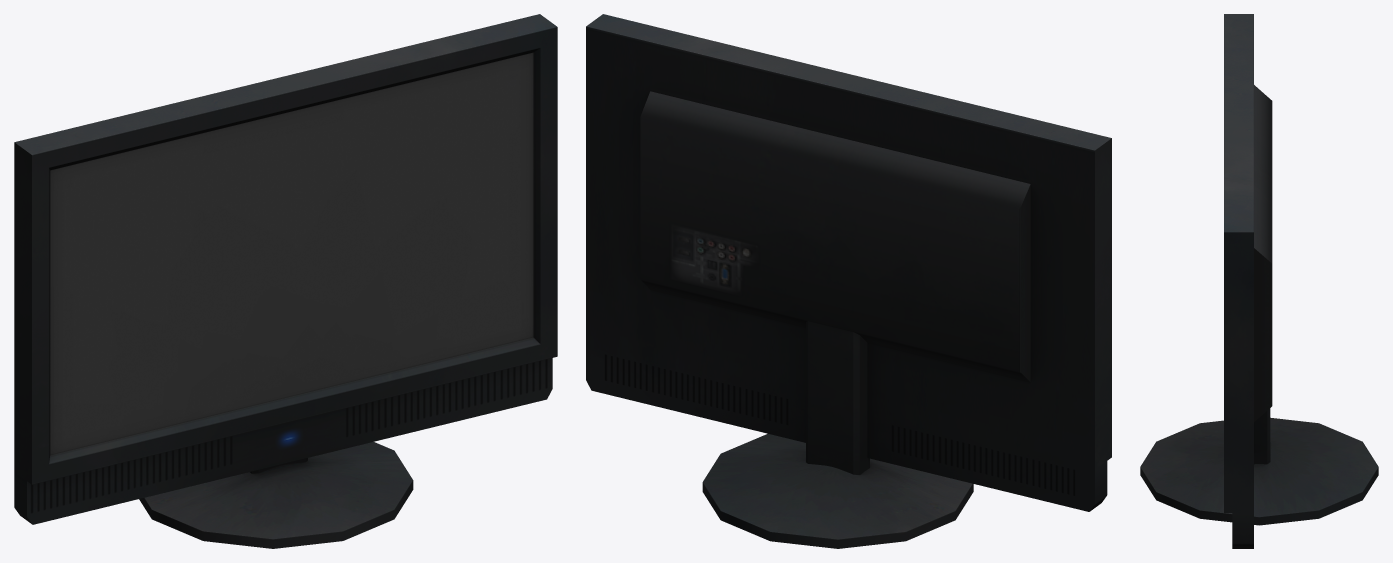
The model's file is Sun_0452_TV_Small.fbx.
3 renders of one model, left to right at view 1: azimuth 30°, elevation 25°; view 2: azimuth 150°, elevation 25°; view 3: azimuth 270°, elevation 25°, orthographic. The views are drawn at different scales.
Visible parts, largest first — view 1: Sun_0452_TV_Small; view 2: Sun_0452_TV_Small; view 3: Sun_0452_TV_Small.
Part boxes in pixels (x1,y1,x2,y2): Sun_0452_TV_Small: (14, 14, 557, 548); Sun_0452_TV_Small: (586, 14, 1111, 548); Sun_0452_TV_Small: (1140, 14, 1378, 548).
Size of the model in its own units: 62.5 by 47.02 by 28.85.
